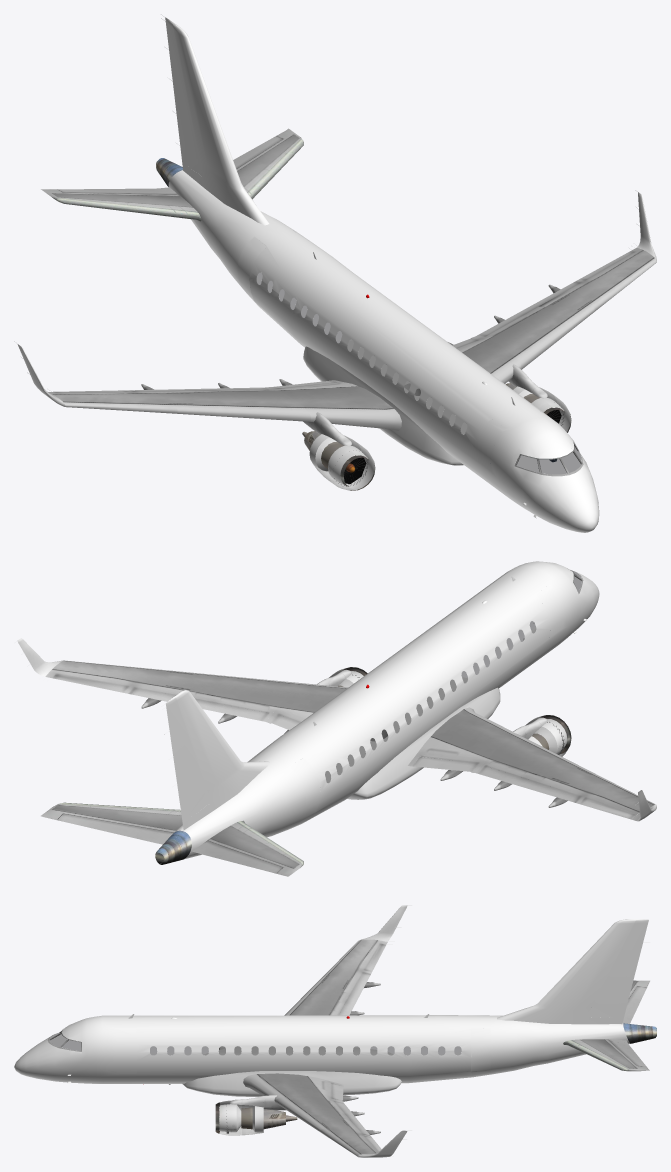
3 views of the same model, one above another, from view 1: azimuth 30°, elevation 25°; view 2: azimuth 150°, elevation 25°; view 3: azimuth 270°, elevation 25° (orthographic). The views are drawn at different scales.
Visible parts, largest first — view 1: fuselage.001; view 2: fuselage.001; view 3: fuselage.001.
Part boxes in pixels (x1=…): fuselage.001: x1=14, y1=14, x2=656, y2=532; fuselage.001: x1=15, y1=561, x2=656, y2=876; fuselage.001: x1=14, y1=905, x2=656, y2=1157.
Bounding box in the file's own units: 25.56 × 9.46 × 30.82.
9 materials, 5 textured.
